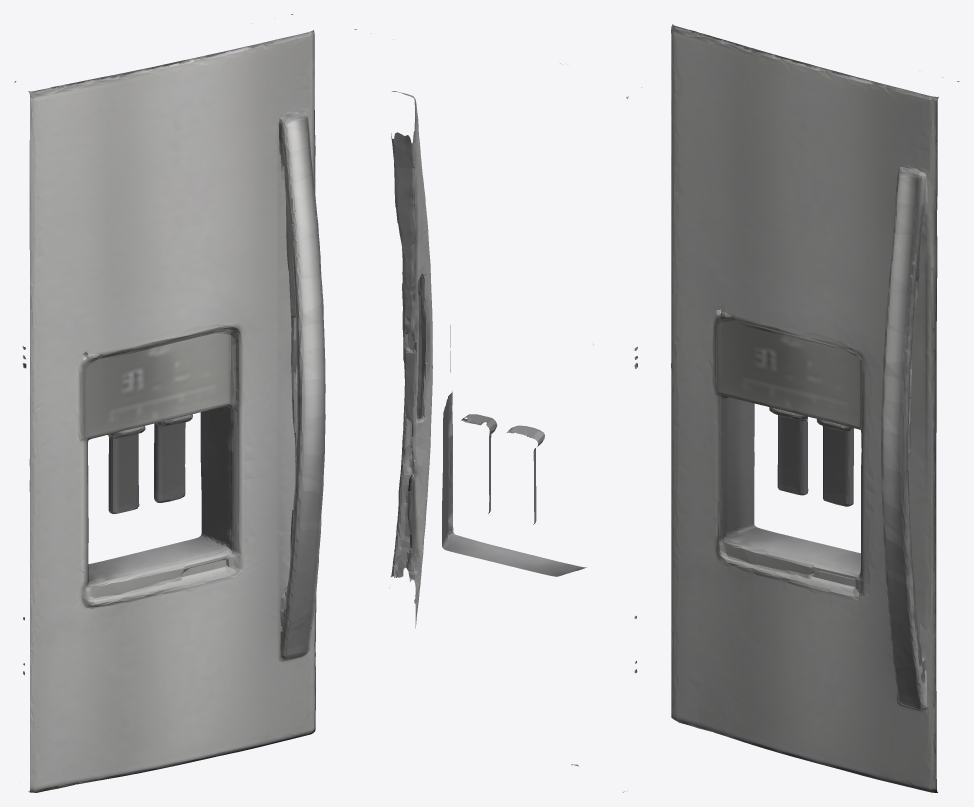
The model's file is door_left.glb.
The picture shows the model from 3 angles, left to right: view 1: azimuth 30°, elevation 25°; view 2: azimuth 150°, elevation 25°; view 3: azimuth 330°, elevation 25°; orthographic projection.
Parts seen in each view (by area): view 1: source_surface_0; view 2: source_surface_0; view 3: source_surface_0.
Boxes of the visible parts, x1,y1,x2,y2 form: source_surface_0: (14,14,325,792); source_surface_0: (354,29,641,792); source_surface_0: (671,24,959,792).
Size of the model in its own units: 0.8438 by 2.05 by 0.2446.
1 material, 1 textured.
